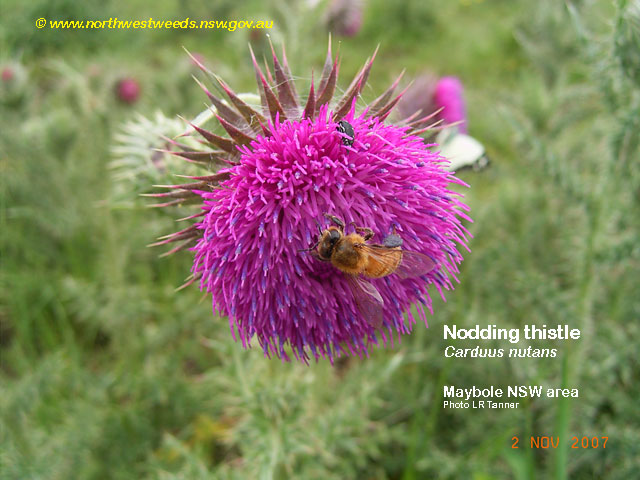thistle: (146, 35, 476, 381)
